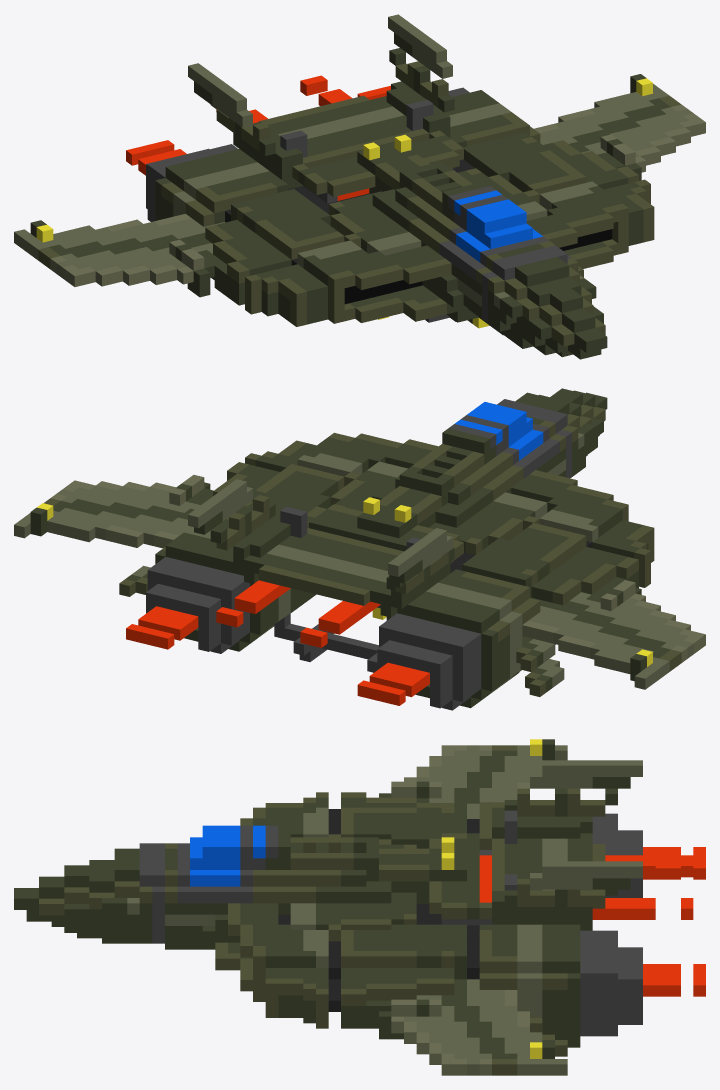
Rendered from CamoStellarJet.obj.
The picture shows the model from 3 angles, top to bottom: view 1: azimuth 30°, elevation 25°; view 2: azimuth 150°, elevation 25°; view 3: azimuth 270°, elevation 25°; orthographic projection. The views are drawn at different scales.
Bounding box in the file's own units: 6 × 1.6 × 5.5.
1 material, 1 textured.
